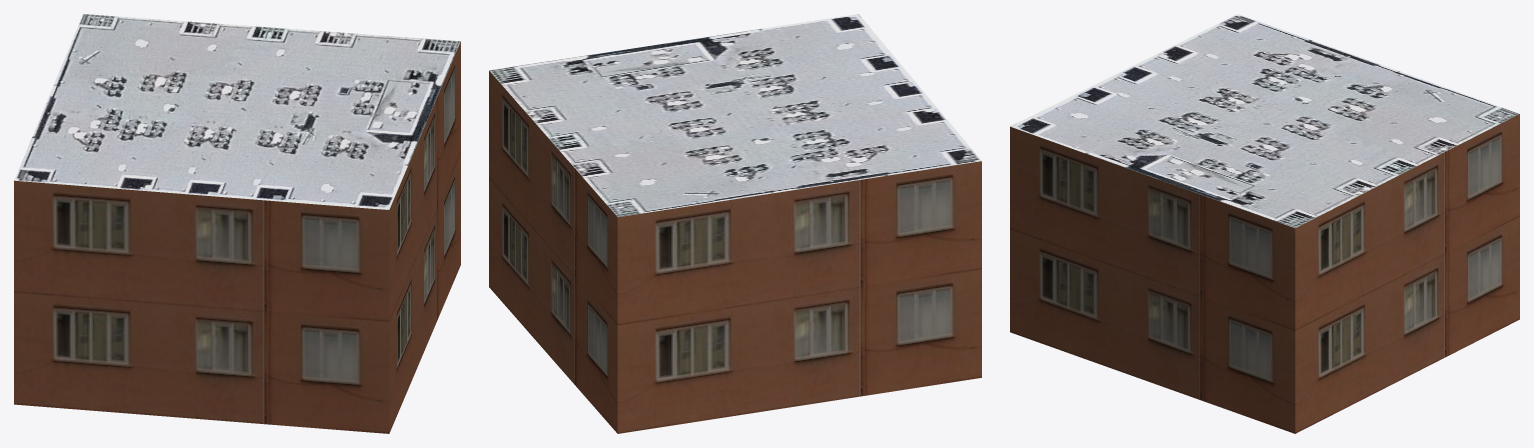
Rendered from ResTex__1758.fbx.
The picture shows the model from 3 angles, left to right: view 1: azimuth 30°, elevation 25°; view 2: azimuth 150°, elevation 25°; view 3: azimuth 270°, elevation 25°; orthographic projection. The views are drawn at different scales.
Visible parts, largest first — view 1: CityEngineMaterial_20_m, CityEngineMaterial_8_m; view 2: CityEngineMaterial_20_m, CityEngineMaterial_8_m; view 3: CityEngineMaterial_20_m, CityEngineMaterial_8_m.
Part boxes in pixels (<box>): CityEngineMaterial_20_m: <box>14,41,460,433</box>; CityEngineMaterial_8_m: <box>14,14,460,209</box>; CityEngineMaterial_20_m: <box>489,71,981,433</box>; CityEngineMaterial_8_m: <box>489,14,981,217</box>; CityEngineMaterial_20_m: <box>1010,114,1519,433</box>; CityEngineMaterial_8_m: <box>1010,14,1519,228</box>.
Size of the model in its own units: 13.41 by 6 by 13.48.
Materials: 2 (2 with a texture image).
